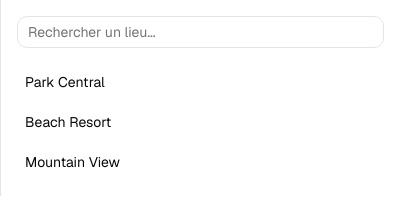
Test: LocationSidebar › search is case insensitive
Type "BEACH" into the field with placeholder "Rechercher un lieu..." at [200, 32], box [17,16,384,48]
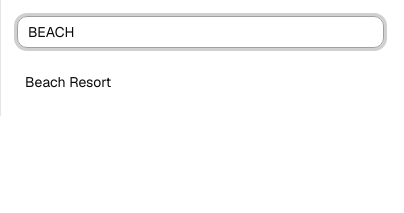
Expected: the button "Beach Resort" is shown, [17,64,384,100]
Result: the button "Park Central" is gone
